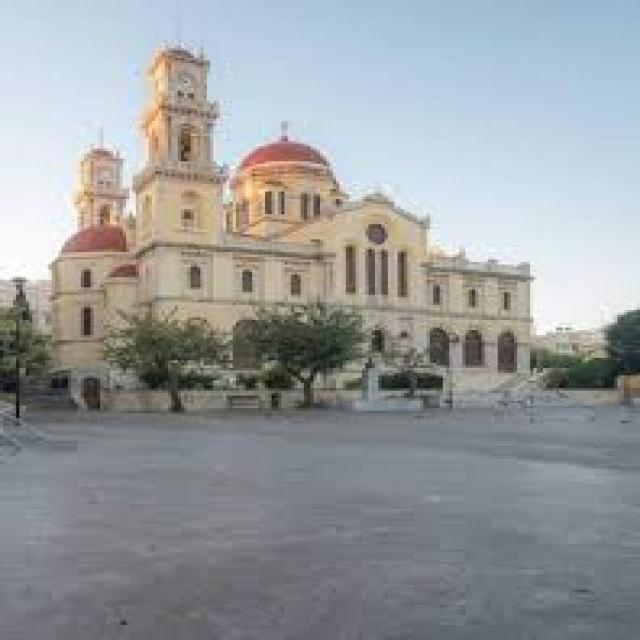Agios Minas: (39, 48, 543, 408)
